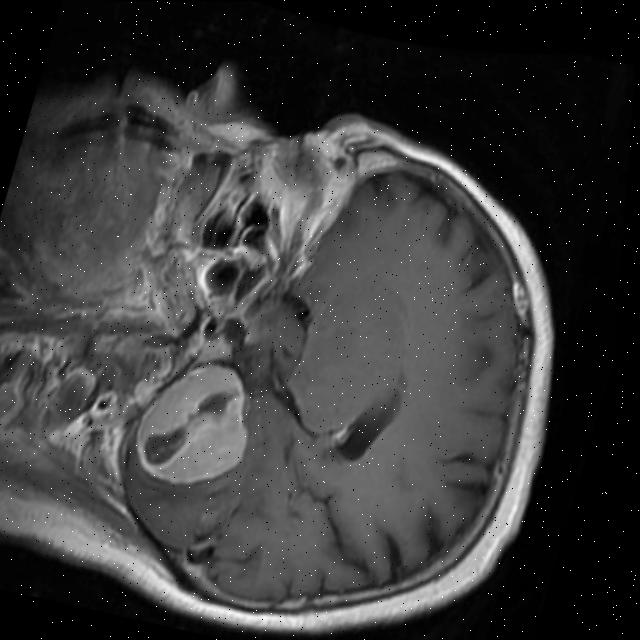Meningioma: (120, 349, 271, 500)
